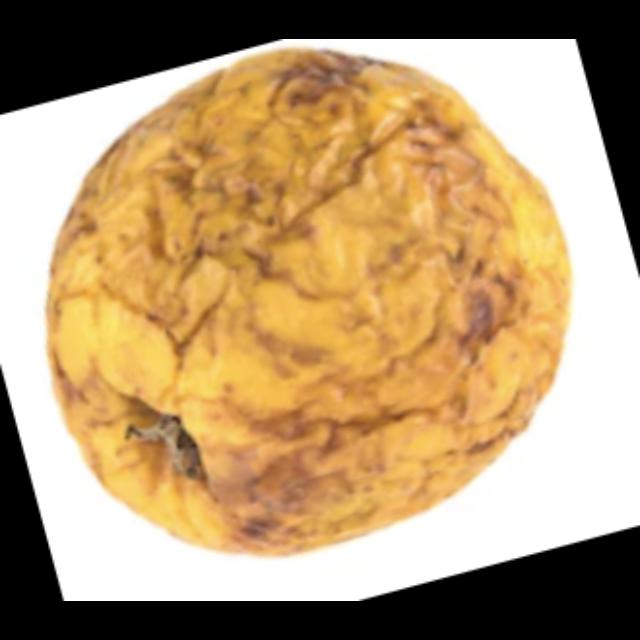Apel Tidak Segar: (49, 69, 605, 567)
